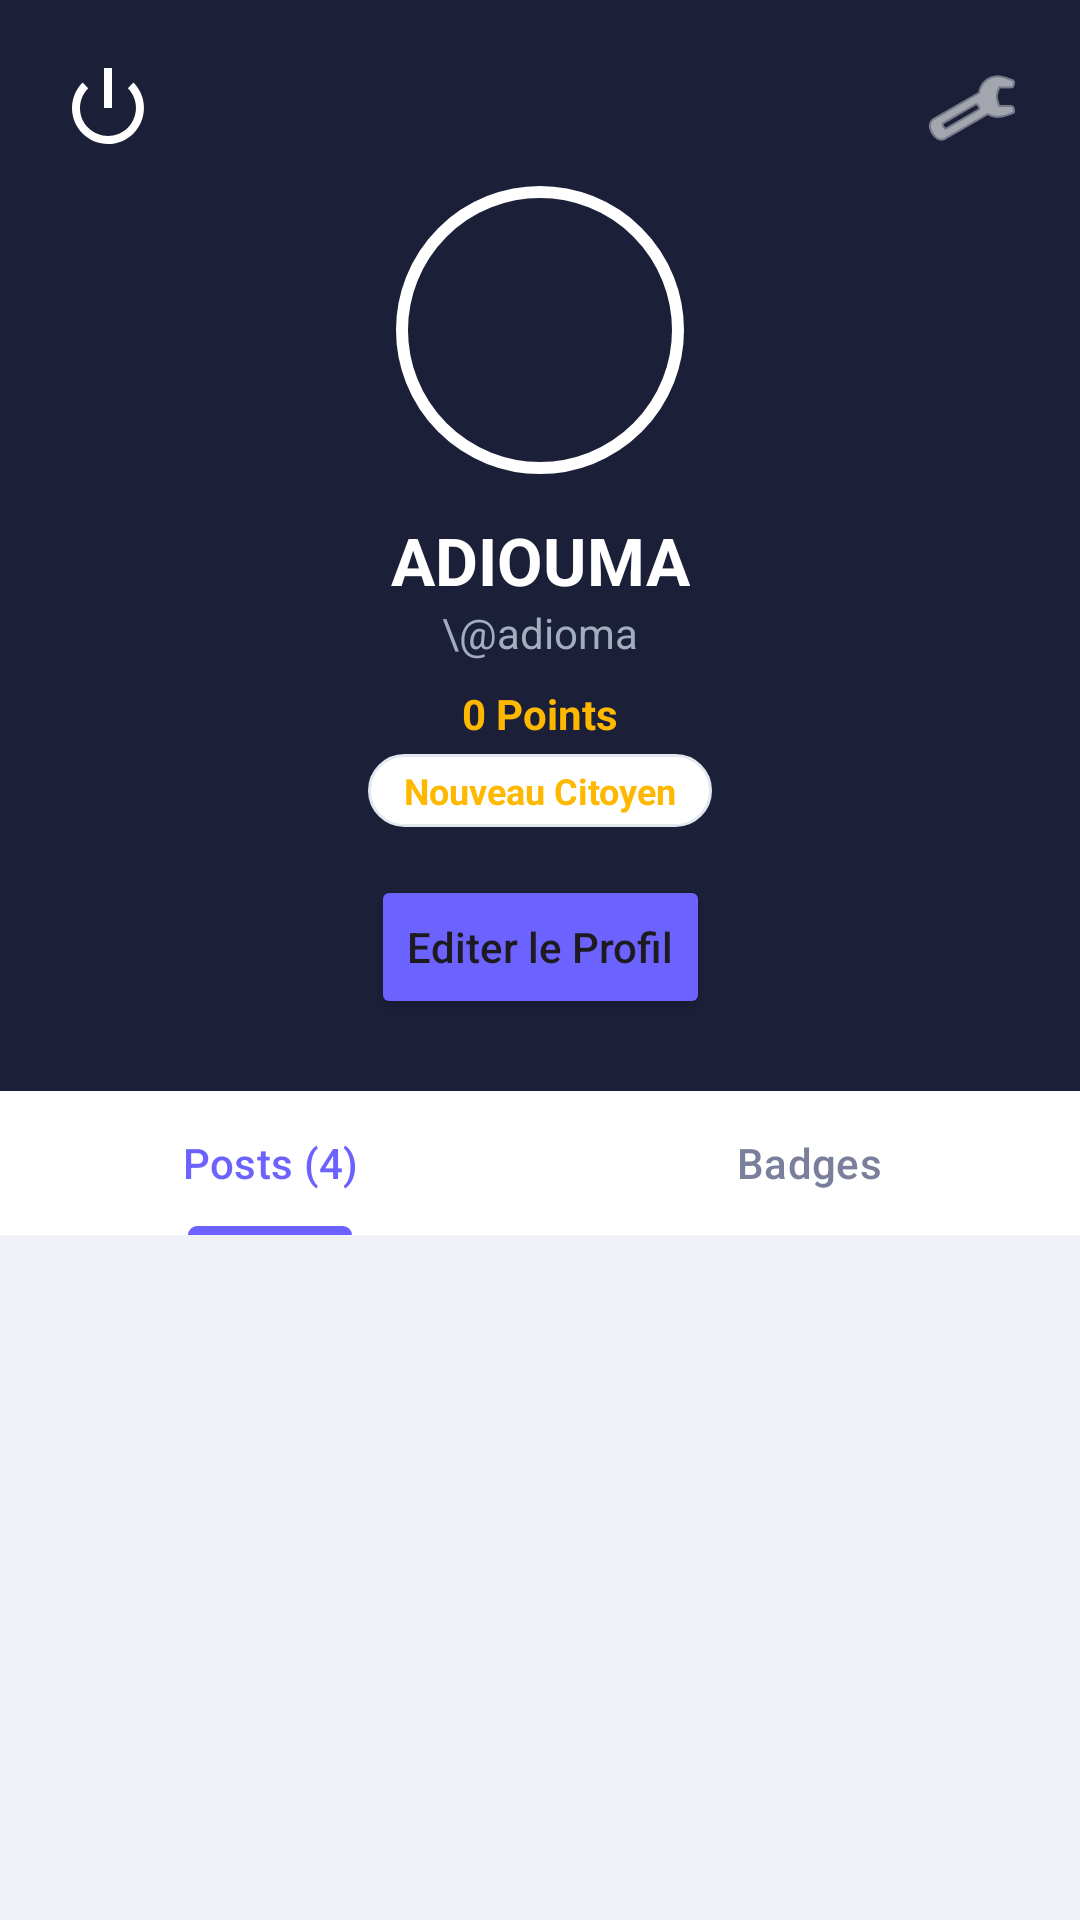

Point at icon controls on the screen. Image size 1080 × 1920, points as [x,y].
lock power off: [108,106]
manage: [972,108]
